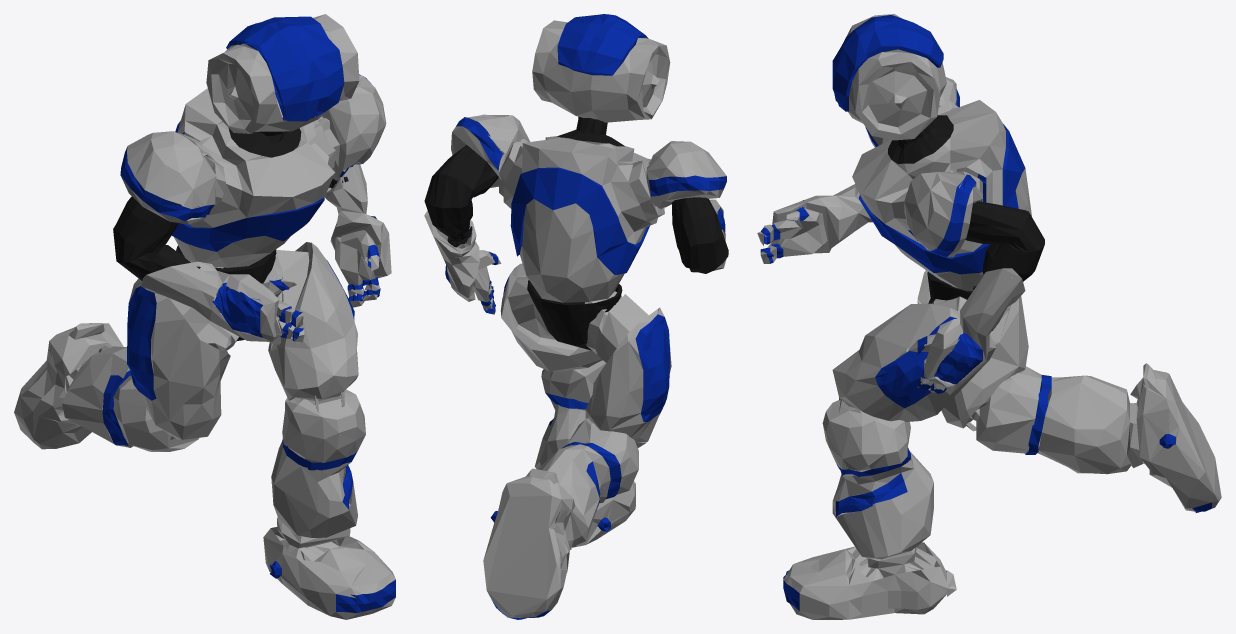
The model's file is run9.obj.
3 renders of one model, left to right at view 1: azimuth 30°, elevation 25°; view 2: azimuth 150°, elevation 25°; view 3: azimuth 270°, elevation 25°, orthographic. The views are drawn at different scales.
Visible parts, largest first — view 1: Robot2.001_Robot2Mesh.000, Robot2_Robot2Mesh.004, Robot2.002_Robot2Mesh.001; view 2: Robot2.001_Robot2Mesh.000, Robot2_Robot2Mesh.004, Robot2.002_Robot2Mesh.001; view 3: Robot2.001_Robot2Mesh.000, Robot2_Robot2Mesh.004, Robot2.002_Robot2Mesh.001.
Part boxes in pixels (left/top/right/bottom): Robot2.001_Robot2Mesh.000: left=14, top=14, right=395, bottom=619; Robot2_Robot2Mesh.004: left=102, top=16, right=395, bottom=613; Robot2.002_Robot2Mesh.001: left=113, top=117, right=348, bottom=341; Robot2.001_Robot2Mesh.000: left=424, top=20, right=726, bottom=617; Robot2_Robot2Mesh.004: left=445, top=14, right=726, bottom=619; Robot2.002_Robot2Mesh.001: left=424, top=116, right=728, bottom=350; Robot2.001_Robot2Mesh.000: left=757, top=14, right=1221, bottom=619; Robot2_Robot2Mesh.004: left=760, top=14, right=1212, bottom=610; Robot2.002_Robot2Mesh.001: left=888, top=115, right=1044, bottom=330.
Size of the model in its own units: 0.99 by 1.91 by 1.42.
